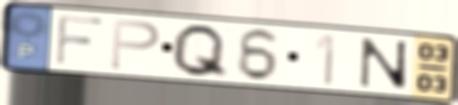1: (313, 32, 338, 88)
6: (236, 27, 282, 83)
F: (53, 13, 108, 68)
N: (358, 35, 411, 92)
P: (107, 16, 163, 72)
Q: (168, 22, 231, 81)
